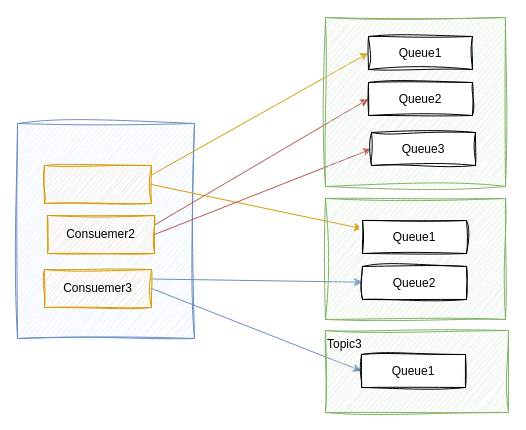
The diagram is 526 pixels wide and 430 high, and some of its shapes have lost their labels. The shapes that lost their labels are listed below. From the top down, each one's box as (x1, y1, x2, y2) in pixels, then its label:
(324, 16, 506, 186): Topic1
(44, 164, 152, 204): Consuemer1
(16, 122, 194, 338): ConsumerGroup
(324, 198, 506, 320): Topic2
